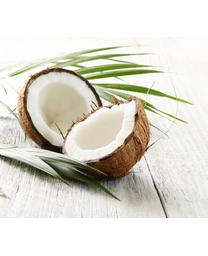coconut: (60, 95, 151, 180), (18, 65, 102, 152)
